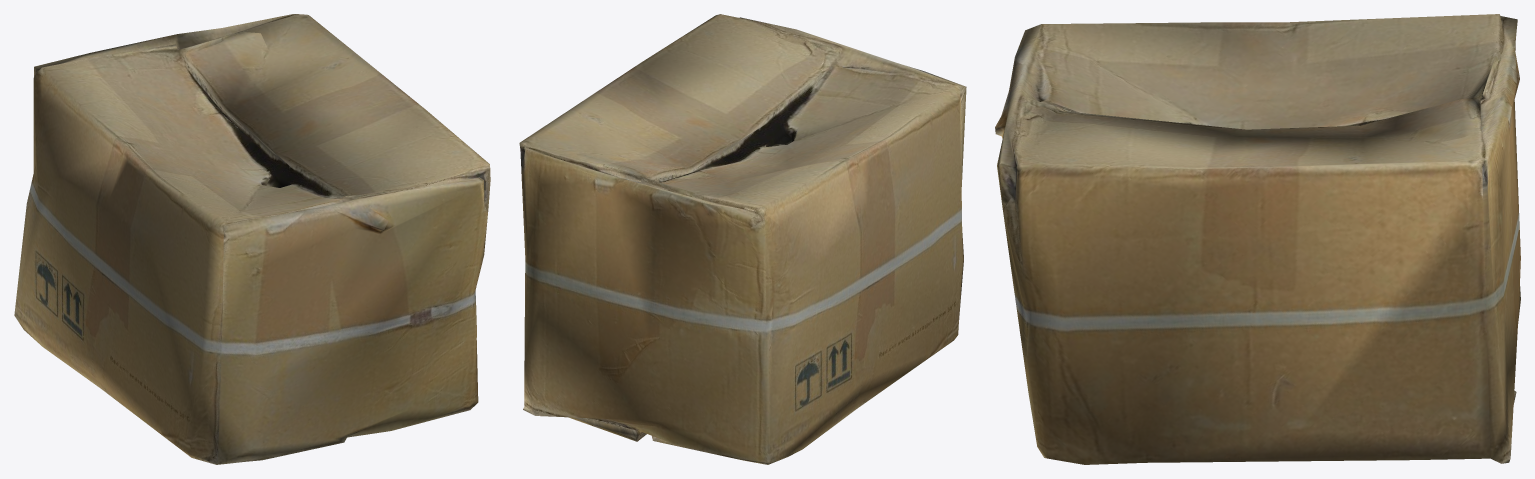
3 views of the same model, side by side, from view 1: azimuth 30°, elevation 25°; view 2: azimuth 150°, elevation 25°; view 3: azimuth 270°, elevation 25° (orthographic). The views are drawn at different scales.
Parts seen in each view (by area): view 1: cardboard_box_01; view 2: cardboard_box_01; view 3: cardboard_box_01.
Boxes of the visible parts, x1,y1,x2,y2 form: cardboard_box_01: [14, 14, 490, 464]; cardboard_box_01: [519, 14, 966, 464]; cardboard_box_01: [995, 14, 1520, 464].
Bounding box in the file's own units: 0.3823 × 0.3394 × 0.5159.
Materials: 1 (1 with a texture image).
